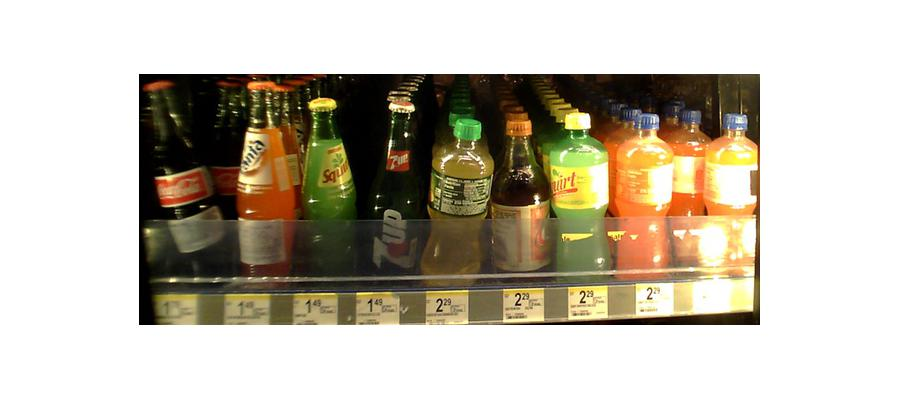bottle: (145, 80, 231, 285), (235, 78, 296, 283), (366, 93, 425, 273), (550, 106, 610, 279), (427, 113, 491, 273), (301, 93, 356, 276), (612, 107, 672, 274), (493, 114, 549, 276), (708, 106, 756, 272), (669, 96, 714, 267)
